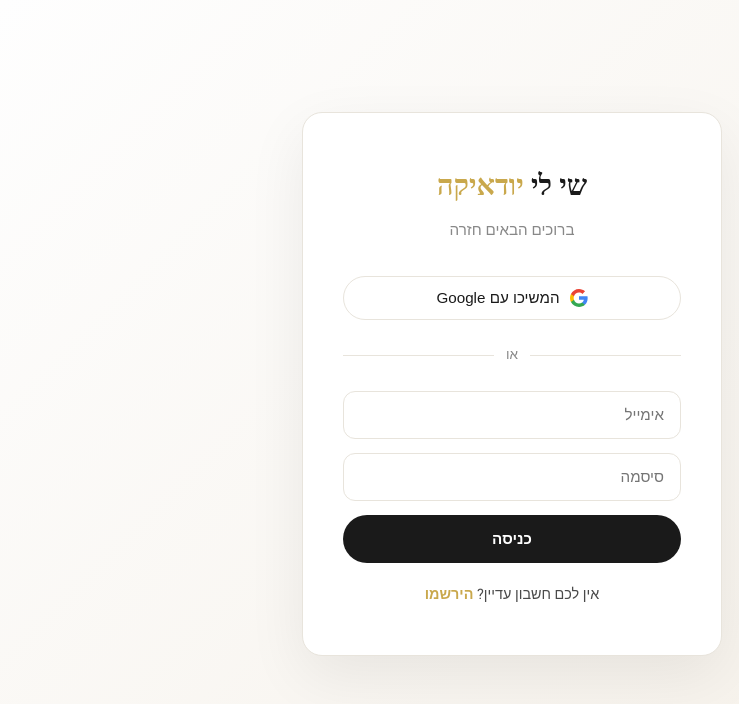
Test: LoginPage › shows success message after sign-up
Click the button "הירשמו" at (449, 594), box [425,584,474,605]
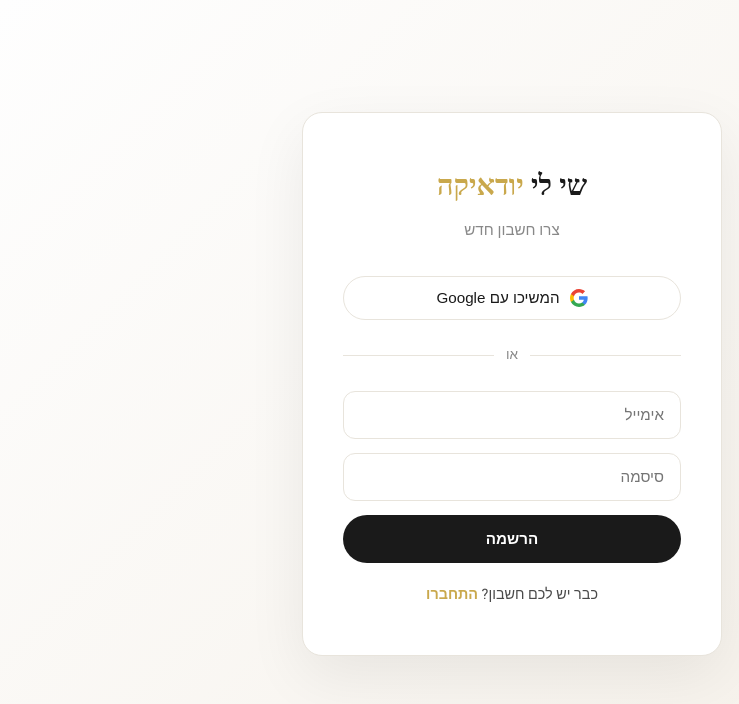
Type "new@test.com" into the field with placeholder "אימייל" at (512, 415), box [343,391,681,439]
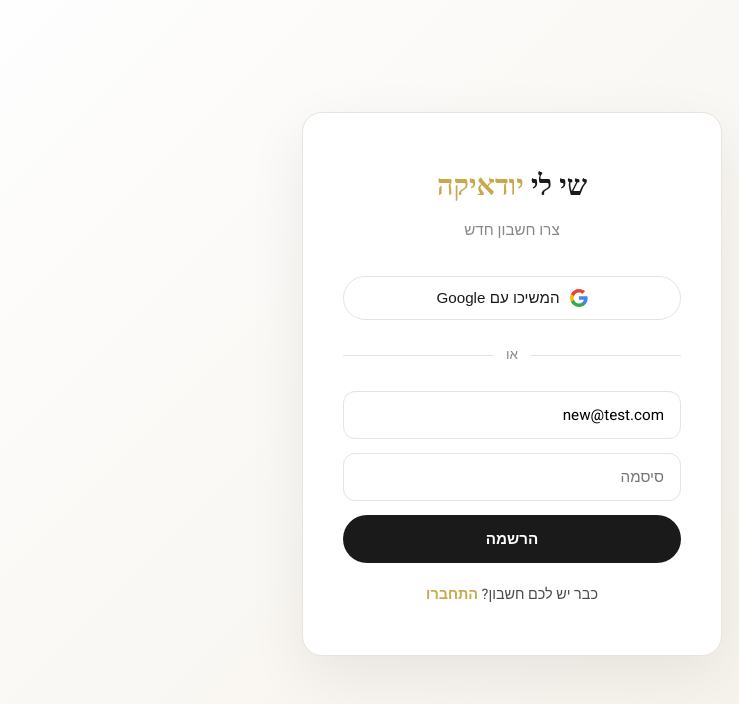
Type "newpass123" into the password field with placeholder "סיסמה" at (512, 477), box [343,453,681,501]
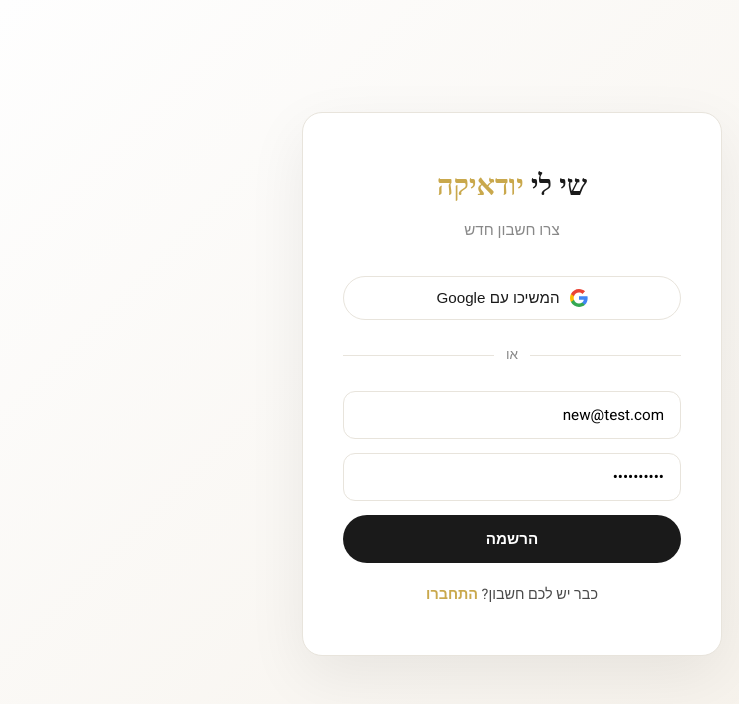
Submit the form "הרשמה", box [343,391,681,563]
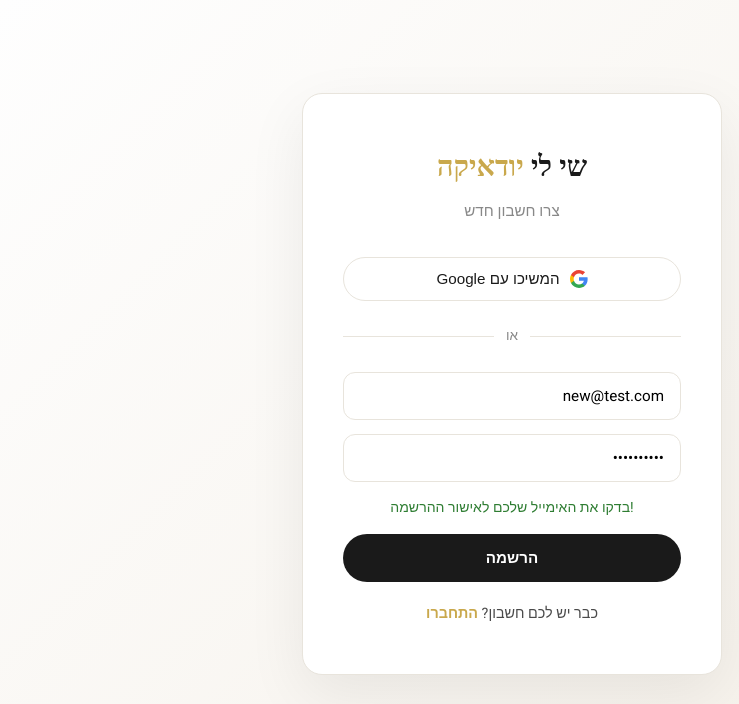
Expected: the text "!בדקו את האימייל שלכם לאישור ההרשמה" is shown, [390,497,634,518]
